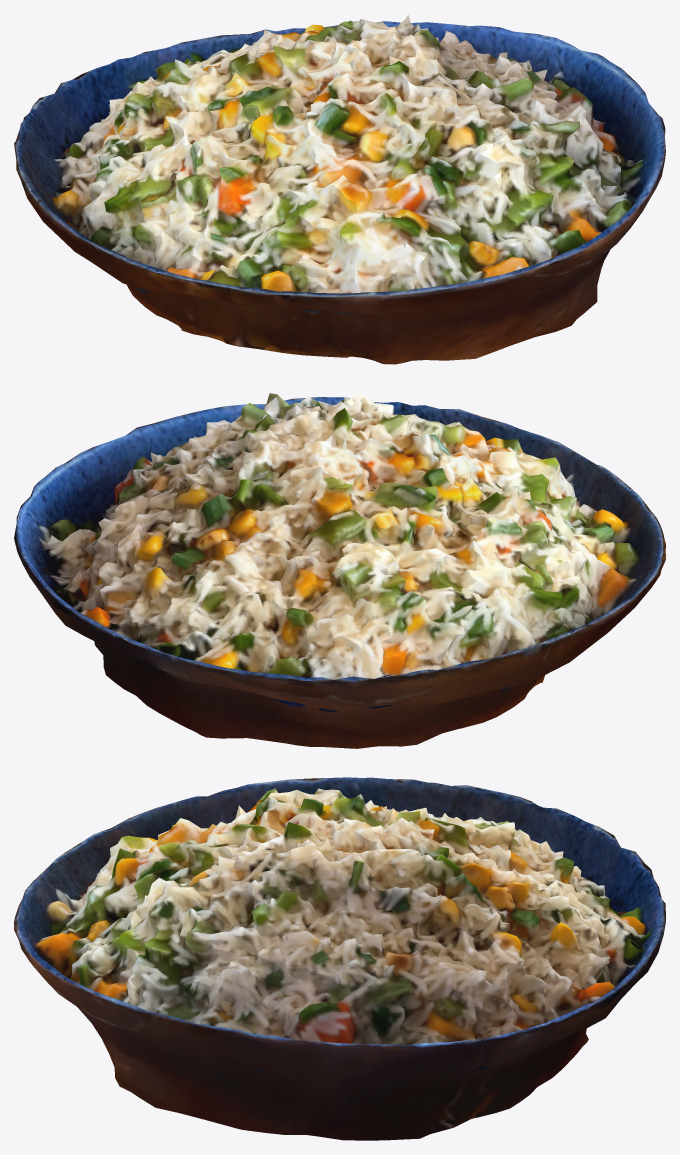
The model's file is fried-rice.glb.
The picture shows the model from 3 angles, top to bottom: view 1: azimuth 30°, elevation 25°; view 2: azimuth 150°, elevation 25°; view 3: azimuth 270°, elevation 25°; orthographic projection. The views are drawn at different scales.
Visible parts, largest first — view 1: Object_2; view 2: Object_2; view 3: Object_2.
Boxes of the visible parts, x1,y1,x2,y2 form: Object_2: (14, 15, 665, 364); Object_2: (14, 393, 665, 748); Object_2: (14, 777, 665, 1140).
Size of the model in its own units: 207 by 77.25 by 205.
1 material, 1 textured.
